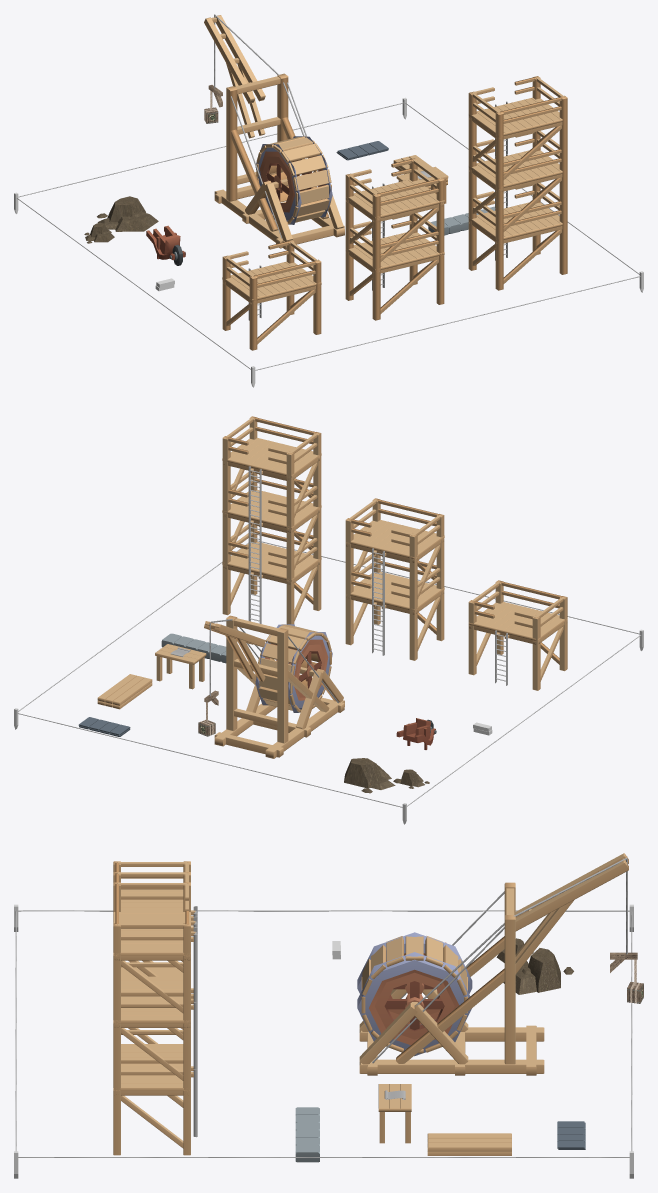
The model's file is london_construction_kit.glb.
3 renders of one model, top to bottom at view 1: azimuth 30°, elevation 25°; view 2: azimuth 150°, elevation 25°; view 3: azimuth 270°, elevation 25°, orthographic. The views are drawn at different scales.
Visible parts, largest first — view 1: scaffold_1_1, scaffold_3_3, scaffold_2_2, scaffold_2_1, scaffold_3_1, scaffold_3_2, wheel_side_-0.72, earth_mound_main, mast_-1.18, wheelbarrow, mast_brace_-1.18, jib_-0.24 (+7 smaller); view 2: scaffold_1_1, scaffold_3_3, scaffold_2_2, scaffold_2_1, scaffold_3_1, scaffold_3_2, wheel_side_-0.72, mast_-1.18, earth_mound_main, mast_1.18, ground_sill_-1.18, wheelbarrow (+3 smaller); view 3: scaffold_3_3, wheel_side_0.72, scaffold_3_1, scaffold_3_2, ground_sill_1.18, mast_1.18, earth_mound_main, jib_0.24, scaffold_2_2, mast_brace_1.18, wheel_side_-0.72, scaffold_1_1 (+15 smaller).
Part boxes in pixels (x1,y1,x2,y2): scaffold_1_1: (222, 240, 321, 350); scaffold_3_3: (468, 76, 567, 185); scaffold_2_2: (345, 158, 444, 267); scaffold_2_1: (345, 212, 444, 320); scaffold_3_1: (468, 183, 567, 290); scaffold_3_2: (468, 131, 567, 237); wheel_side_-0.72: (255, 144, 301, 224); earth_mound_main: (97, 196, 158, 232); mast_-1.18: (226, 86, 237, 201); wheelbarrow: (146, 225, 185, 265); mast_brace_-1.18: (231, 129, 278, 231); jib_-0.24: (204, 17, 255, 103); scaffold_1_1: (468, 580, 567, 690); scaffold_3_3: (222, 416, 321, 526); scaffold_2_2: (345, 498, 444, 606); scaffold_2_1: (345, 554, 444, 660); scaffold_3_1: (222, 524, 321, 624); scaffold_3_2: (222, 472, 321, 577); wheel_side_-0.72: (288, 632, 332, 712); mast_-1.18: (277, 628, 288, 743); earth_mound_main: (344, 758, 401, 793); mast_1.18: (226, 615, 237, 731); ground_sill_-1.18: (265, 700, 344, 758); wheelbarrow: (396, 718, 436, 749); scaffold_3_3: (113, 882, 195, 1020); wheel_side_0.72: (357, 952, 471, 1056); scaffold_3_1: (113, 1030, 194, 1155); scaffold_3_2: (113, 962, 194, 1087); ground_sill_1.18: (359, 1059, 544, 1073); mast_1.18: (504, 915, 515, 1064); earth_mound_main: (503, 948, 573, 994); jib_0.24: (515, 860, 628, 931); scaffold_2_2: (113, 872, 195, 976); mast_brace_1.18: (396, 968, 504, 1063); wheel_side_-0.72: (357, 932, 472, 1025); scaffold_1_1: (113, 861, 195, 962).
Bounding box in the file's own units: 18.13 × 7.81 × 19.44.
15 materials, 9 textured.
